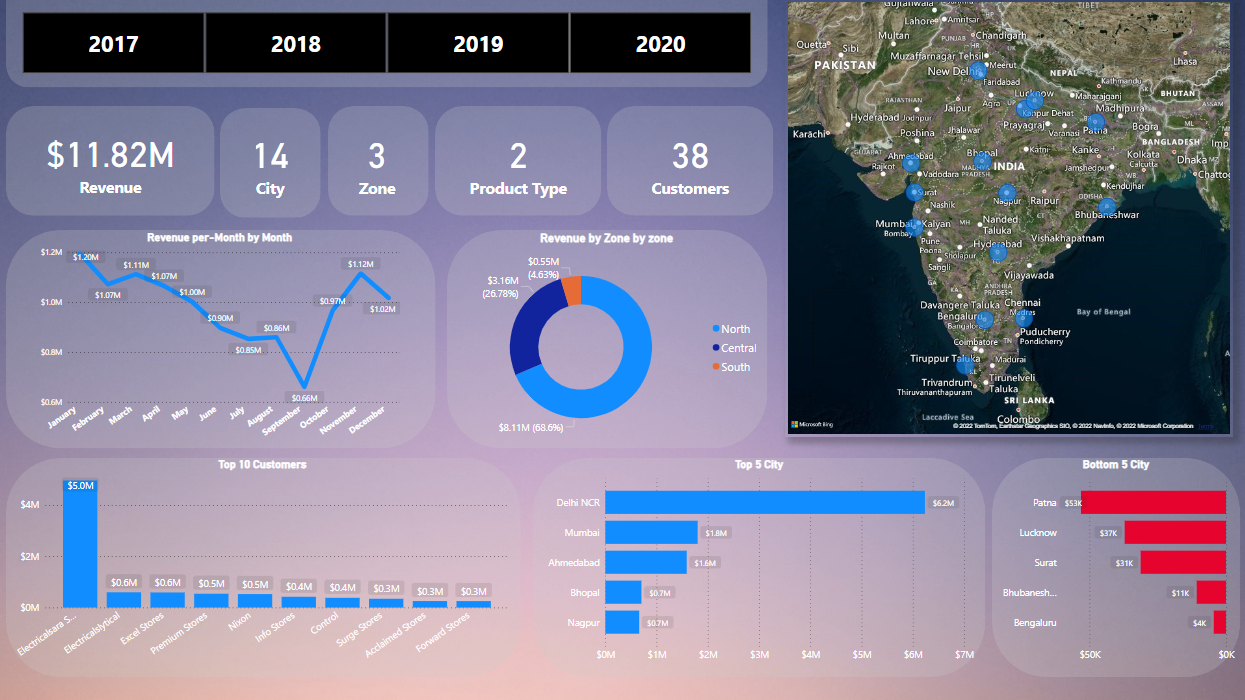

What the dashboard file says about the page in this screenshot:
{"tool":"powerbi","page":{"name":"Dashboard","canvas":[1920,1080],"ordinal":0},"visuals":[{"type":"shape","box":[10.2,0,1171.6,135.7],"z":0},{"type":"shape","box":[10.2,164.9,321,169.2],"z":1000},{"type":"shape","box":[340.5,168,154.9,169.5],"z":2000},{"type":"shape","box":[670.7,165.1,255.7,169.5],"z":3000},{"type":"shape","box":[935.2,165.1,255.7,169.5],"z":4000},{"type":"shape","title":"ghh","box":[10.2,356,660.9,335.6],"z":5000},{"type":"shape","box":[688.6,356,493.1,335.6],"z":6000},{"type":"shape","box":[10.2,706.1,792.2,337],"z":7000},{"type":"shape","box":[821.4,706.1,695.9,337],"z":8000},{"type":"shape","box":[1527.7,706.2,370.8,336.9],"z":9000},{"type":"slicer","fields":{"Values":["sales date.year"]},"box":[10.2,14.6,1170.4,106.7],"z":10000},{"type":"card","title":"Revenue","fields":{"Values":["sales transactions.usd_sales_amount"]},"box":[10.2,165.1,321.5,169.5],"z":11000},{"type":"map","fields":{"Category":["sales markets.markets_name"]},"box":[1209.9,0,689.7,673.6],"z":12000},{"type":"card","title":"Revenue","fields":{"Values":["sales markets.markets_name"]},"box":[377,176.8,80.4,144.7],"z":13000},{"type":"shape","box":[505.6,165.1,154.9,169.5],"z":14000},{"type":"card","title":"Revenue","fields":{"Values":["sales markets.zone"]},"box":[542.1,176.8,80.4,144.7],"z":15000},{"type":"card","title":"Revenue","fields":{"Values":["sales products.product_type"]},"box":[670.7,176.8,255.7,144.7],"z":16000},{"type":"card","title":"Revenue","fields":{"Values":["sales customers.custmer_name"]},"box":[935.2,176.8,255.7,144.7],"z":17000},{"type":"lineChart","fields":{"Category":["sales date.date.Variation.Date Hierarchy.Month"],"Y":["sales transactions.usd_sales_amount"]},"box":[57.6,356.5,565.2,335.9],"z":18000},{"type":"donutChart","fields":{"Y":["sales transactions.usd_sales_amount"],"Category":["sales markets.zone"]},"box":[689.1,356.5,491.3,335.9],"z":19000},{"type":"columnChart","title":"Top 10 Customers ","fields":{"Category":["sales customers.custmer_name"],"Y":["sales transactions.usd_sales_amount"]},"box":[22.2,706.7,767.8,323.3],"z":20000},{"type":"barChart","title":"Top 5 City","fields":{"Category":["sales markets.markets_name"],"Y":["sales transactions.usd_sales_amount"]},"box":[841.5,712.3,655.4,324.6],"z":21000},{"type":"barChart","title":"Bottom 5 City","fields":{"Category":["sales markets.markets_name"],"Y":["sales transactions.usd_sales_amount"]},"box":[1527.7,712.3,353.8,316.9],"z":22000}]}

Visuals, with their boxes in screenshot pixels (x1, y1, x2, y2), scaled from the page's 1920x1080 canvas onto the 1245x700 screenshot:
shape: box(7, 0, 766, 88)
shape: box(7, 107, 215, 217)
shape: box(221, 109, 321, 219)
shape: box(435, 107, 601, 217)
shape: box(606, 107, 772, 217)
"ghh" shape: box(7, 231, 435, 448)
shape: box(447, 231, 766, 448)
shape: box(7, 458, 520, 676)
shape: box(533, 458, 984, 676)
shape: box(991, 458, 1231, 676)
slicer - sales date.year: box(7, 9, 766, 79)
"Revenue" card: box(7, 107, 215, 217)
map - sales markets.markets_name: box(785, 0, 1232, 437)
"Revenue" card: box(244, 115, 297, 208)
shape: box(328, 107, 428, 217)
"Revenue" card: box(352, 115, 404, 208)
"Revenue" card: box(435, 115, 601, 208)
"Revenue" card: box(606, 115, 772, 208)
lineChart - sales date.date.Variation.Date Hierarchy.Month x sales transactions.usd_sales_amount: box(37, 231, 404, 449)
donutChart - sales transactions.usd_sales_amount x sales markets.zone: box(447, 231, 765, 449)
"Top 10 Customers " columnChart: box(14, 458, 512, 668)
"Top 5 City" barChart: box(546, 462, 971, 672)
"Bottom 5 City" barChart: box(991, 462, 1220, 667)
